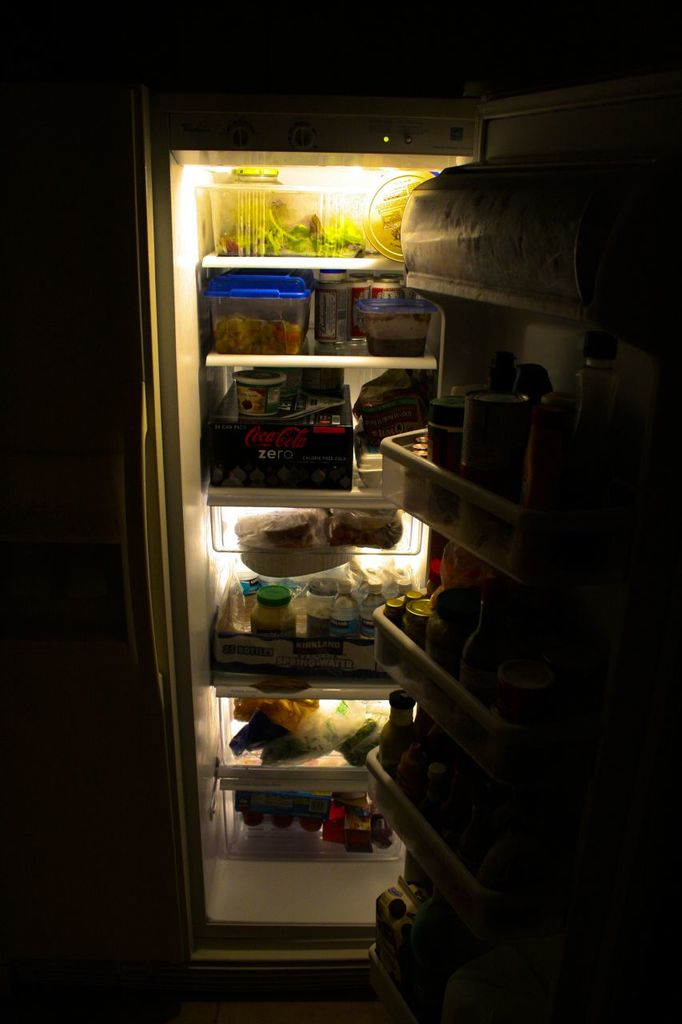handle: (123, 394, 156, 677)
refrigerator door: (473, 156, 631, 973)
